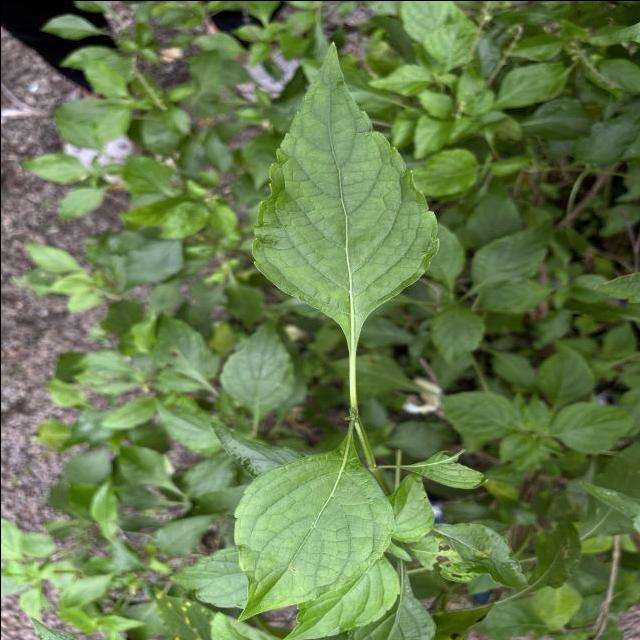Ocimum gratissimum: (247, 33, 442, 364), (230, 426, 397, 626), (278, 551, 401, 640)
